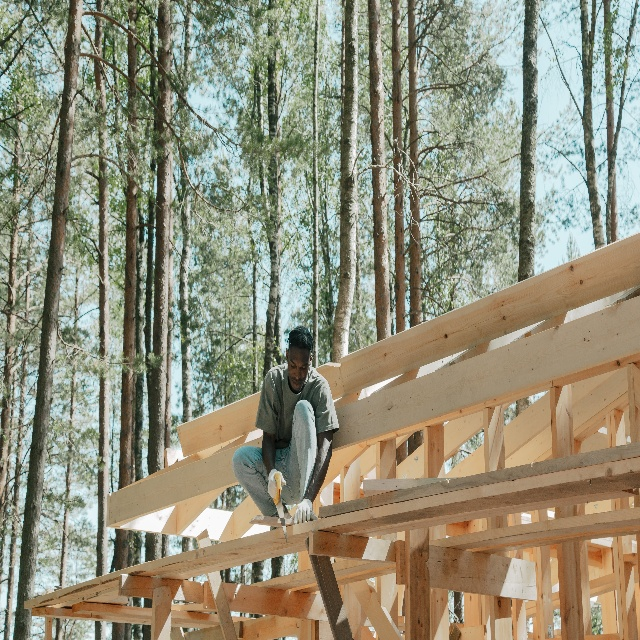Guantes: (290, 498, 314, 526), (267, 470, 287, 499)
